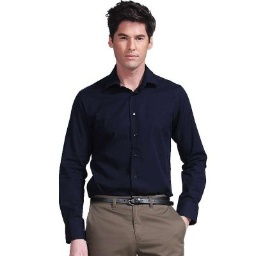face: (104, 1, 158, 68)
